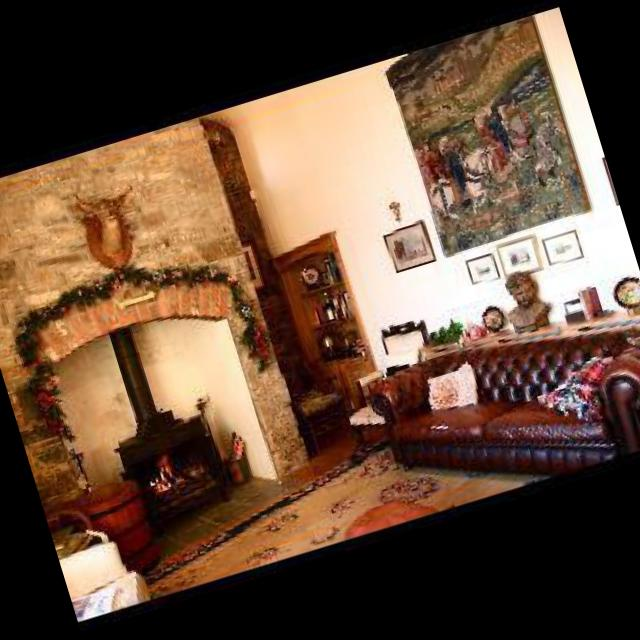fire: (142, 453, 186, 490)
